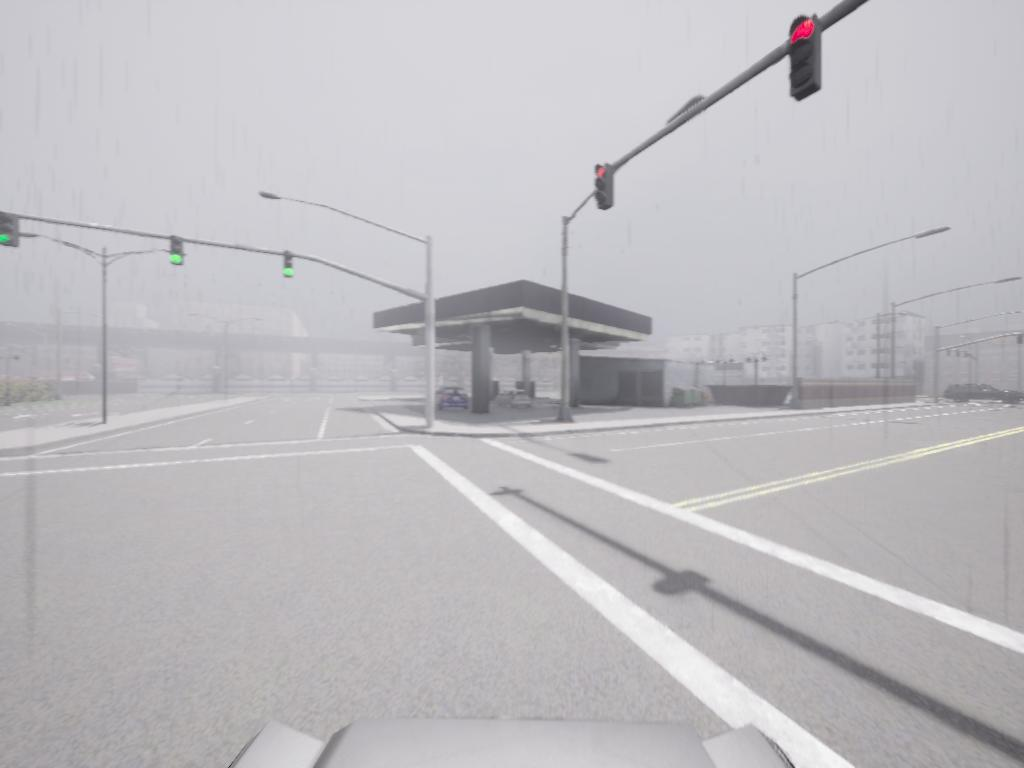traffic_light: (788, 16, 823, 102), (594, 167, 615, 210), (3, 209, 22, 246), (169, 239, 186, 265), (282, 258, 295, 281)
